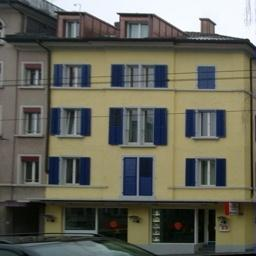building: (52, 9, 256, 254), (1, 1, 50, 254)
